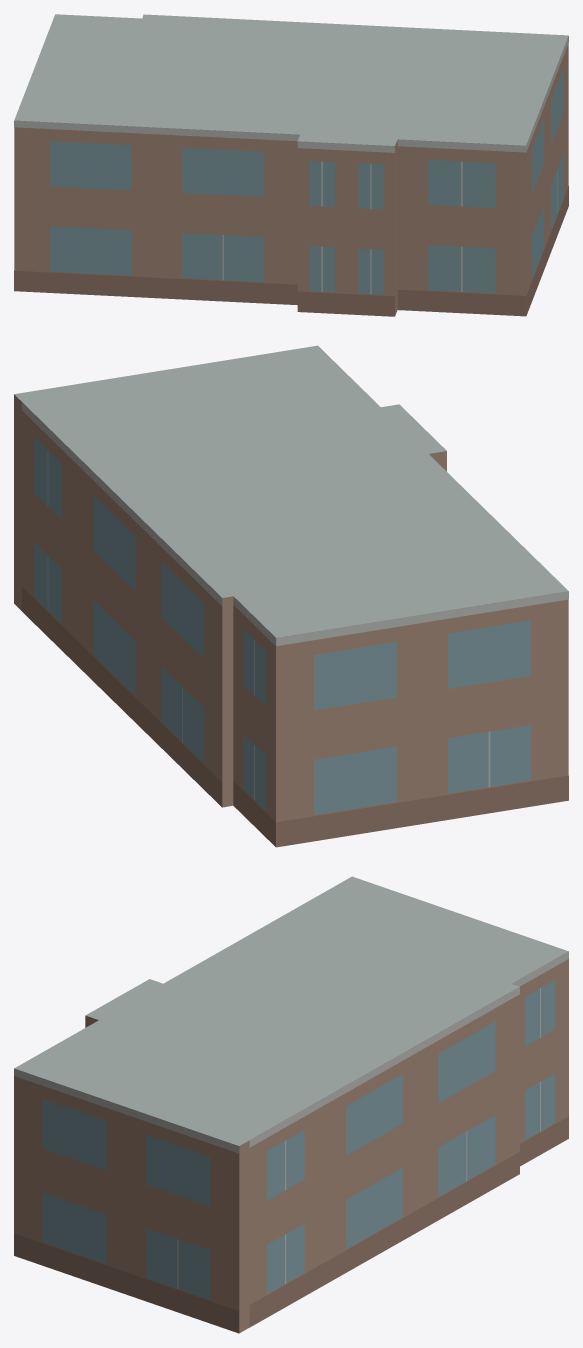
The model's file is survey-upis-32779154.glb.
3 views of the same model, one above another, from view 1: azimuth 30°, elevation 25°; view 2: azimuth 150°, elevation 25°; view 3: azimuth 270°, elevation 25° (orthographic). The views are drawn at different scales.
Parts seen in each view (by area): view 1: survey-upis-32779154.tmp; view 2: survey-upis-32779154.tmp; view 3: survey-upis-32779154.tmp.
Part boxes in pixels (x1,y1,x2,y2): survey-upis-32779154.tmp: (14, 14, 568, 316); survey-upis-32779154.tmp: (14, 345, 568, 847); survey-upis-32779154.tmp: (14, 876, 568, 1333).
Size of the model in its own units: 18.84 by 6.1 by 16.38.
